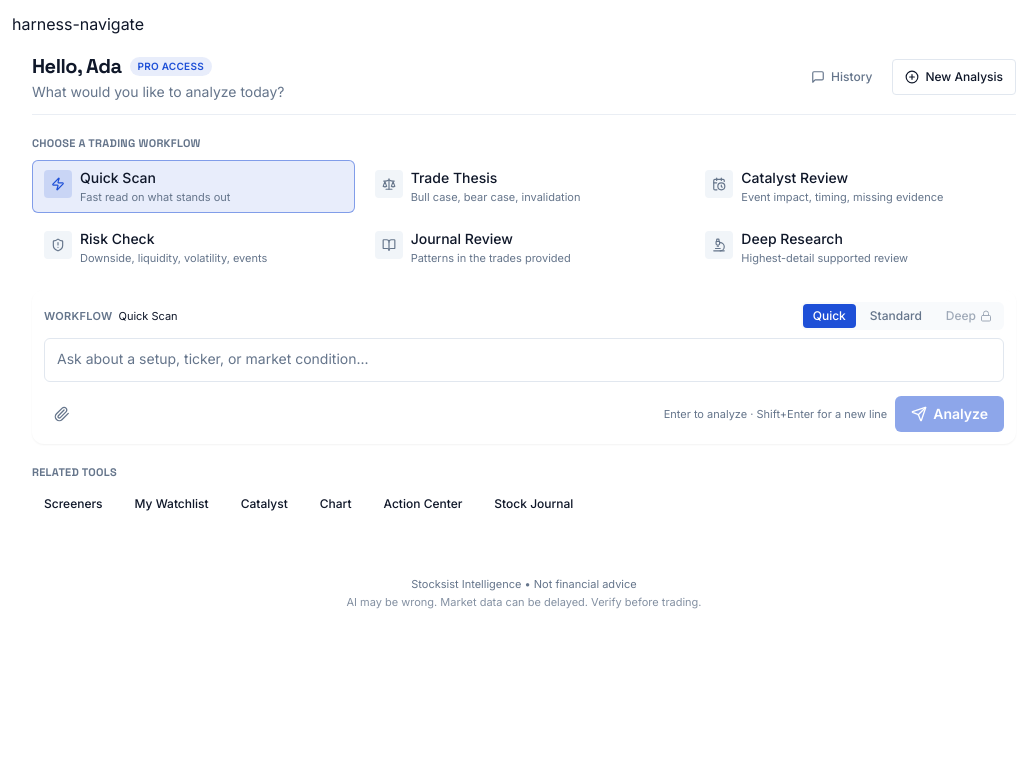
Test: AI Analyst — request lifecycle › an intentional abort does not display a false failure
Type "Analyze the open" into the text box with placeholder "Ask about a setup, ticker, or market condition..." at (524, 360), box x1=44 y1=338 x2=1004 y2=382
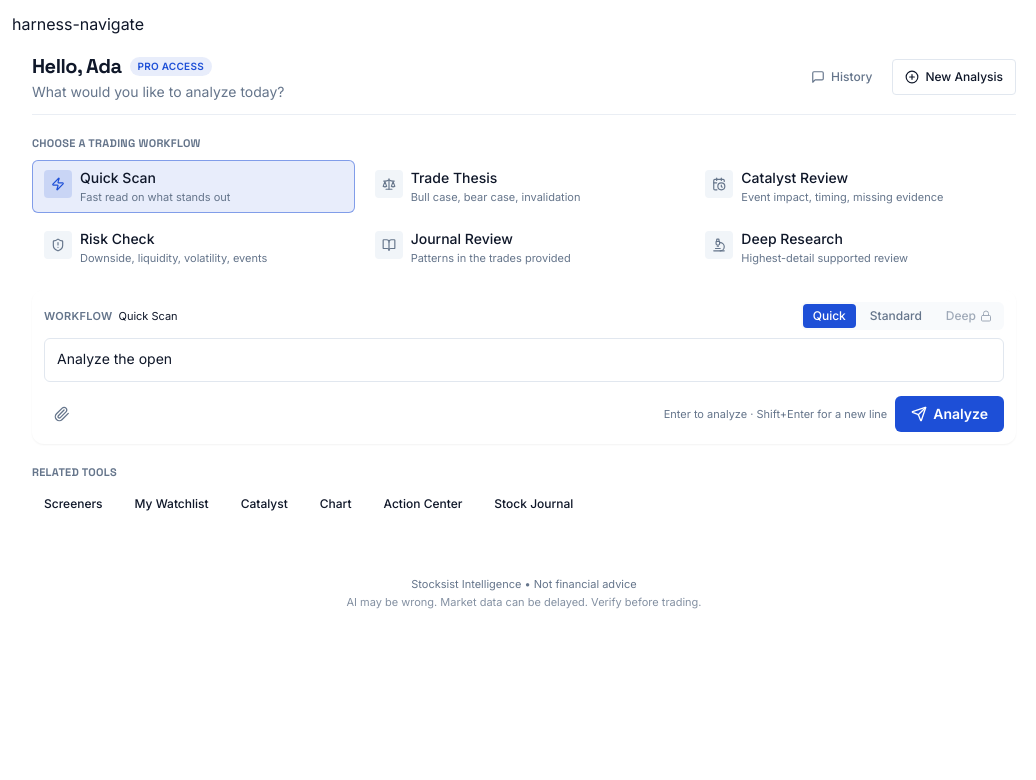
Press Enter in the text box with placeholder "Ask about a setup, ticker, or market condition...", box x1=44 y1=338 x2=1004 y2=382
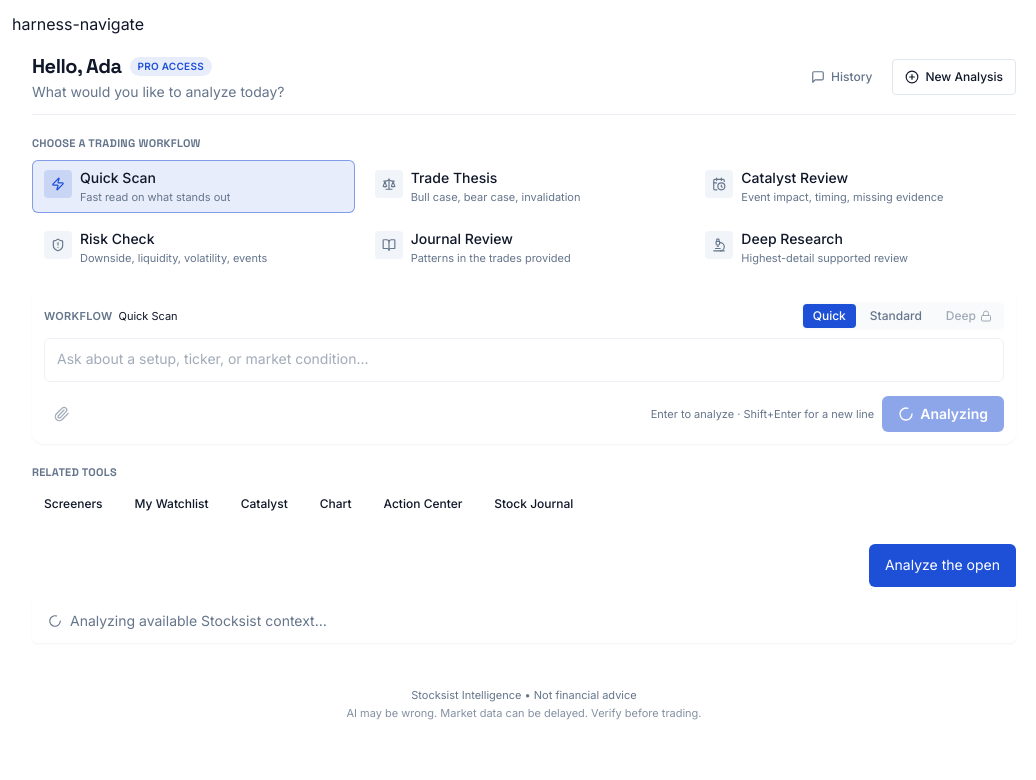
Click the button "New Analysis" at (954, 77), box x1=892 y1=59 x2=1016 y2=95
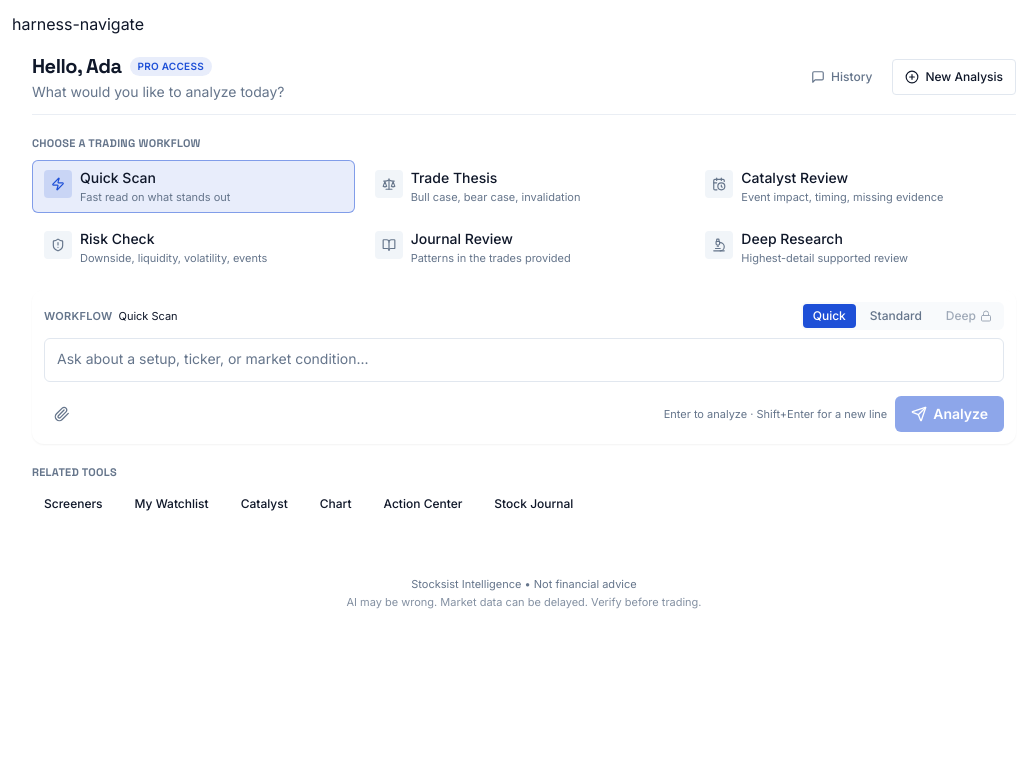
Now the text "Analyzing available Stocksist context" is gone
Now the text box with placeholder "Ask about a setup, ticker, or market condition..." is enabled, box x1=44 y1=338 x2=1004 y2=382
